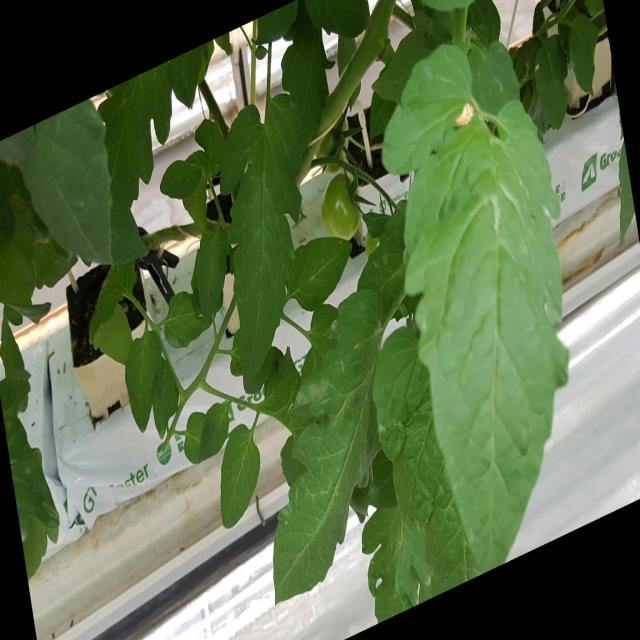Healthy Leaf: (376, 16, 582, 588), (259, 277, 385, 606), (282, 214, 358, 321), (216, 412, 266, 544), (123, 319, 164, 445)
